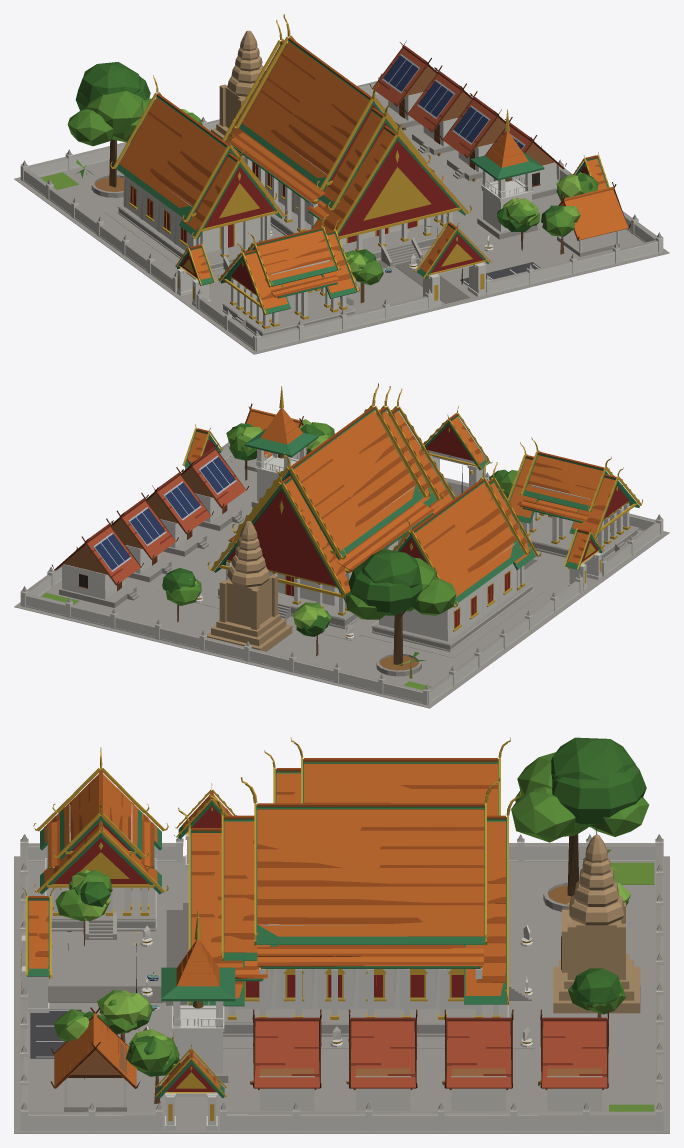
The model's file is temple_3.glb.
The picture shows the model from 3 angles, top to bottom: view 1: azimuth 30°, elevation 25°; view 2: azimuth 150°, elevation 25°; view 3: azimuth 270°, elevation 25°; orthographic projection. The views are drawn at different scales.
Visible parts, largest first — view 1: body; view 2: body; view 3: body.
Part boxes in pixels (<box>): body: <box>14,14,669,354</box>; body: <box>14,383,669,708</box>; body: <box>14,737,669,1133</box>.
Bounding box in the file's own units: 47.9 × 17.87 × 47.9.
